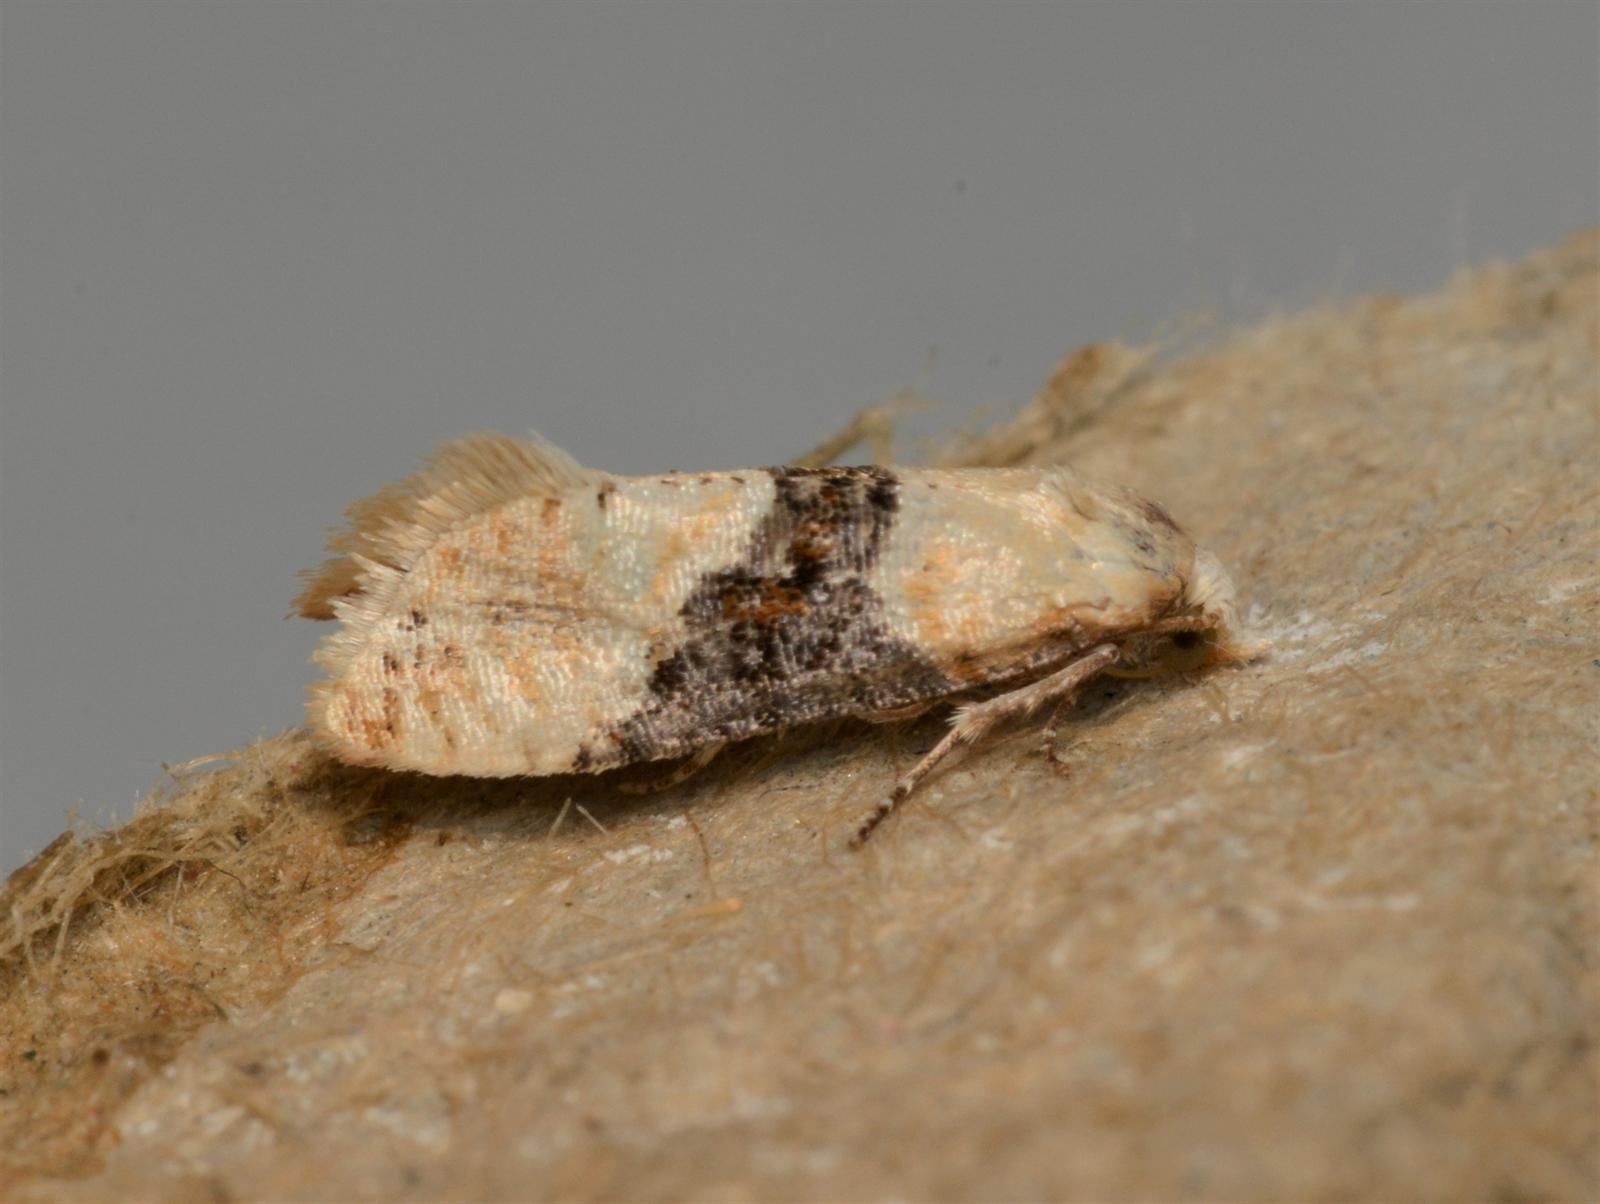Eupoecilia Ambiguella: (285, 421, 1260, 857)
